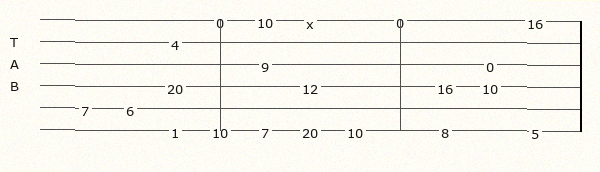0: (216, 14, 228, 27), (396, 14, 408, 27), (486, 58, 498, 71)
1: (171, 124, 183, 137)
10: (212, 124, 232, 137), (257, 14, 277, 27), (347, 124, 367, 137), (482, 80, 502, 93)
12: (302, 80, 322, 93)
16: (437, 80, 457, 93), (527, 14, 547, 27)
20: (167, 80, 187, 93), (302, 124, 322, 137)
4: (171, 36, 183, 49)
5: (531, 124, 543, 137)
6: (126, 102, 138, 115)
7: (81, 102, 93, 115), (261, 124, 273, 137)
8: (441, 124, 453, 137)
9: (261, 58, 273, 71)
x: (306, 15, 318, 26)
